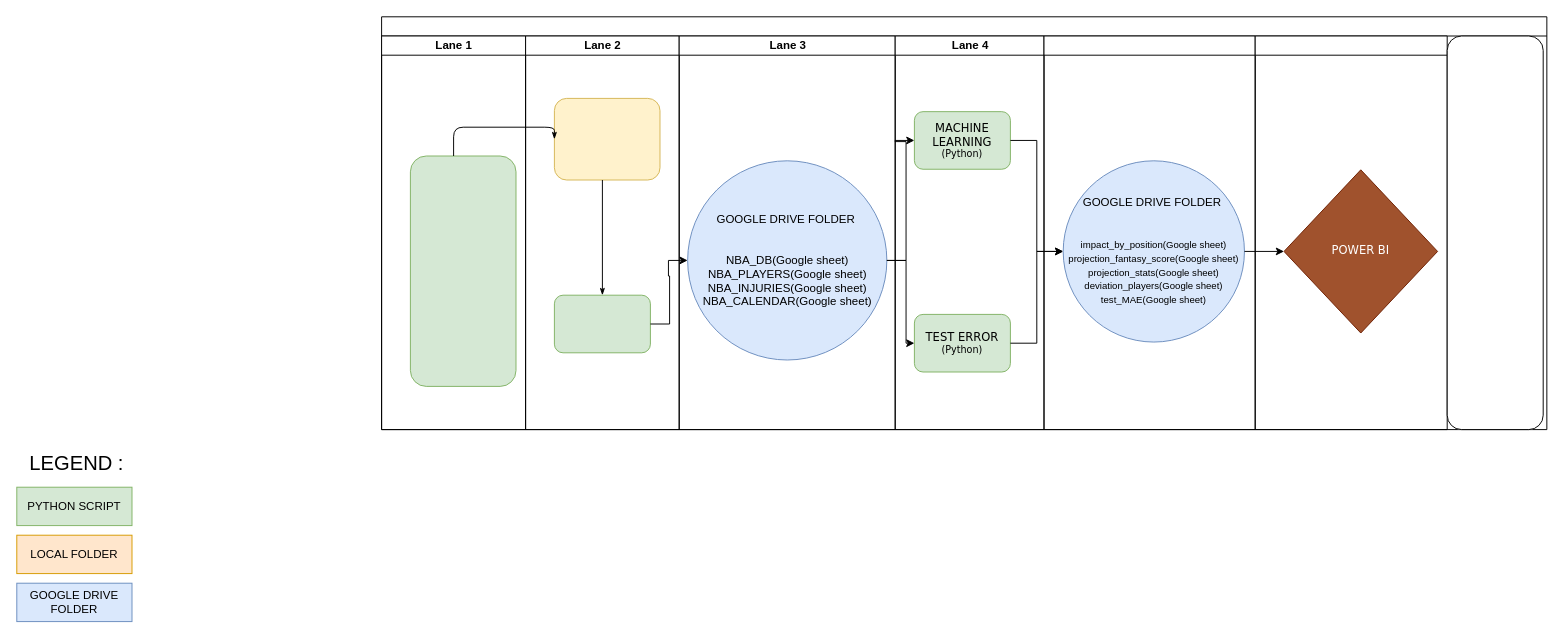
Some shapes in this 1564 by 638 pixel diagram are drawn without their labels. The box of each missing label's shape, as (x1, y1, x2, y2) in pixels:
EXCTRATING + CLEANING DATA: (553, 294, 650, 353)
Lane 5: (1043, 35, 1255, 430)
Lane 6: (1254, 35, 1447, 430)
LOCAL FOLDERS (.html files) /games /standings /teams: (553, 97, 660, 180)
NBA PROJECT DIAGRAM: (381, 16, 1547, 430)
WEB SCRAPING (Python): (409, 155, 516, 386)
